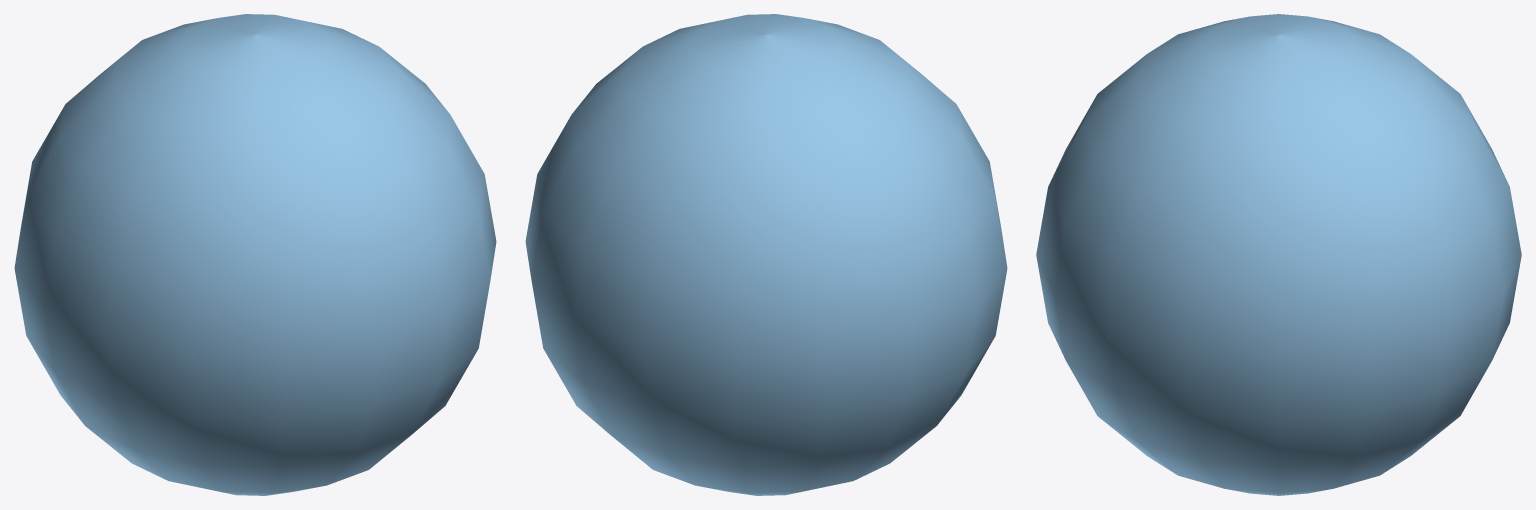
File: synapse-vesicle.glb
The picture shows the model from 3 angles, left to right: view 1: azimuth 30°, elevation 25°; view 2: azimuth 150°, elevation 25°; view 3: azimuth 270°, elevation 25°; orthographic projection.
Visible parts, largest first — view 1: vesicle_membrane; view 2: vesicle_membrane; view 3: vesicle_membrane.
Boxes of the visible parts, x1=… form: vesicle_membrane: x1=14, y1=14, x2=496, y2=495; vesicle_membrane: x1=525, y1=14, x2=1007, y2=495; vesicle_membrane: x1=1036, y1=14, x2=1521, y2=495.
Size of the model in its own units: 0.86 by 0.86 by 0.86.
